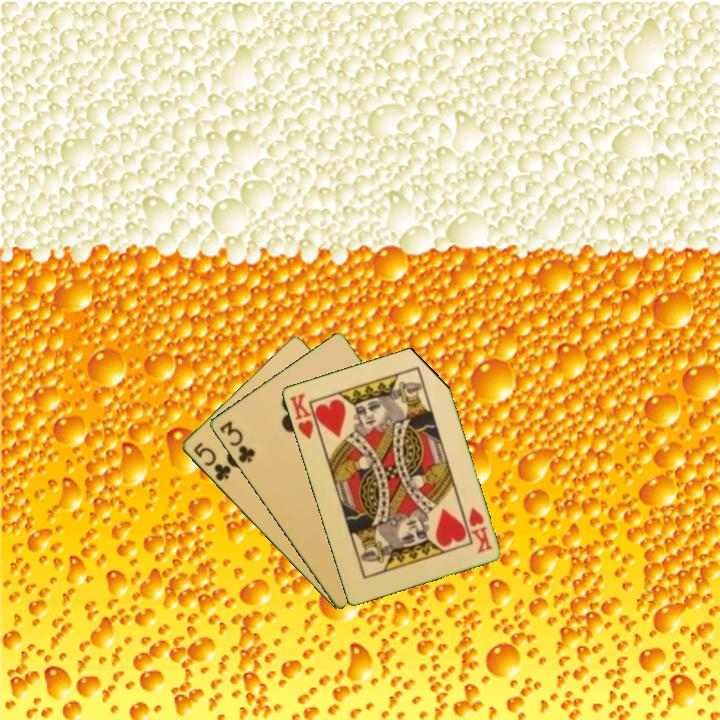3c: (216, 417, 258, 466)
5c: (189, 438, 233, 484)
Kh: (286, 390, 323, 442), (464, 503, 495, 556)
